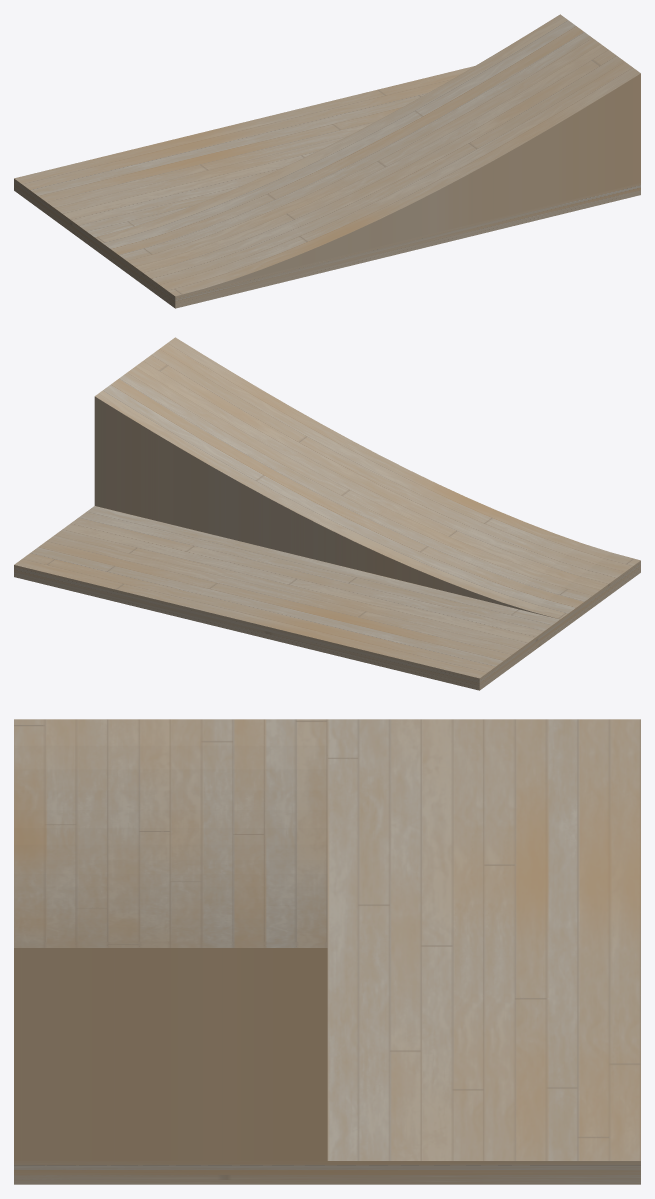
File: @Tag.Ground.4.obj
3 renders of one model, top to bottom at view 1: azimuth 30°, elevation 25°; view 2: azimuth 150°, elevation 25°; view 3: azimuth 270°, elevation 25°, orthographic. The views are drawn at different scales.
Visible parts, largest first — view 1: GroundSlopeRight; view 2: GroundSlopeRight; view 3: GroundSlopeRight.
Boxes of the visible parts, x1,y1,x2,y2 form: GroundSlopeRight: [14, 14, 640, 308]; GroundSlopeRight: [14, 337, 640, 690]; GroundSlopeRight: [14, 719, 640, 1184].
Bounding box in the file's own units: 80 × 19.98 × 48.
Materials: 1 (1 with a texture image).
